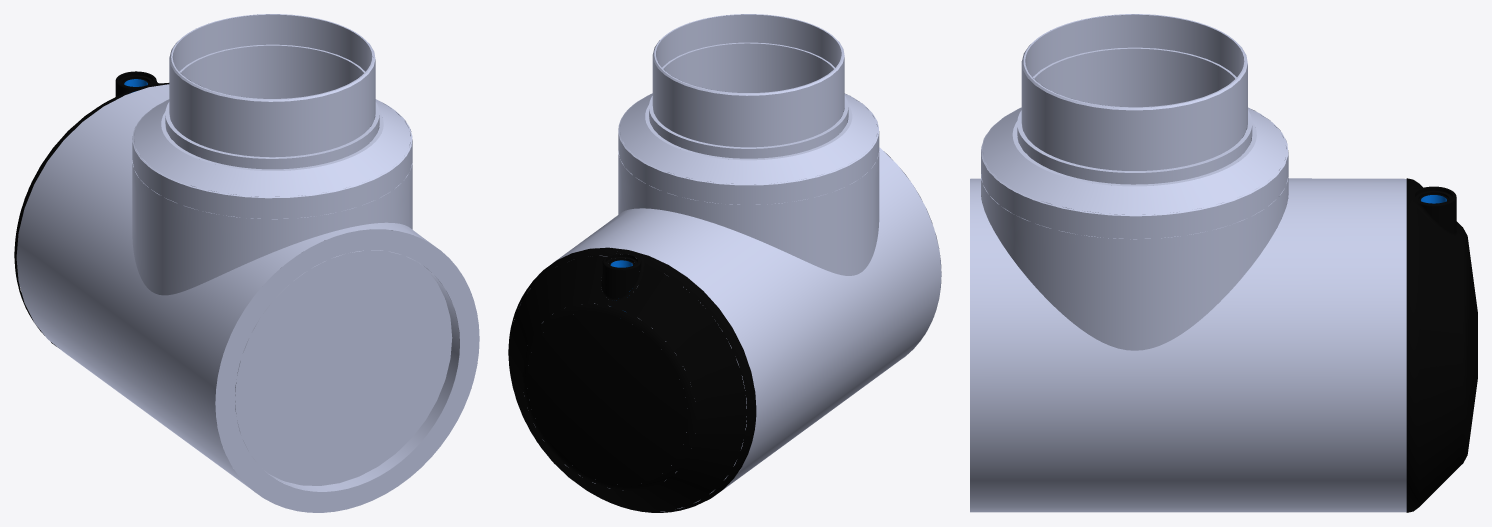
3 renders of one model, left to right at view 1: azimuth 30°, elevation 25°; view 2: azimuth 150°, elevation 25°; view 3: azimuth 270°, elevation 25°, orthographic. The views are drawn at different scales.
Visible parts, largest first — view 1: j2.IGS (×2); view 2: j2.IGS (×2); view 3: j2.IGS (×2).
Boxes of the visible parts, bbox=[...] form: j2.IGS (×2): bbox=[14, 14, 479, 512]; j2.IGS (×2): bbox=[508, 14, 941, 512]; j2.IGS (×2): bbox=[970, 14, 1477, 512].
Bounding box in the file's own units: 0.185 × 0.266 × 0.2806.
